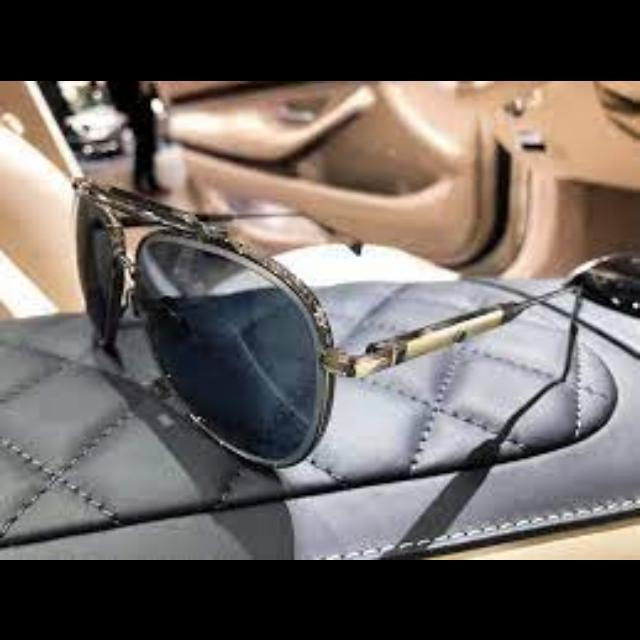glasses: (69, 172, 593, 468)
